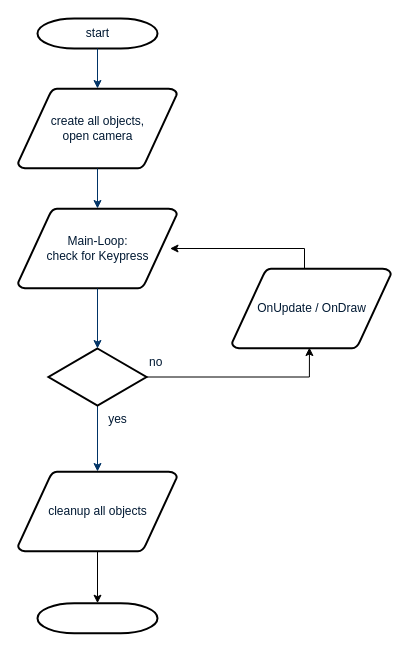
Image size: 409x651. Some labels were removed from this diagram. The centre of each missing label's shape, as x and y in pixels:
end: point 97,618
Exit program: point 97,376
